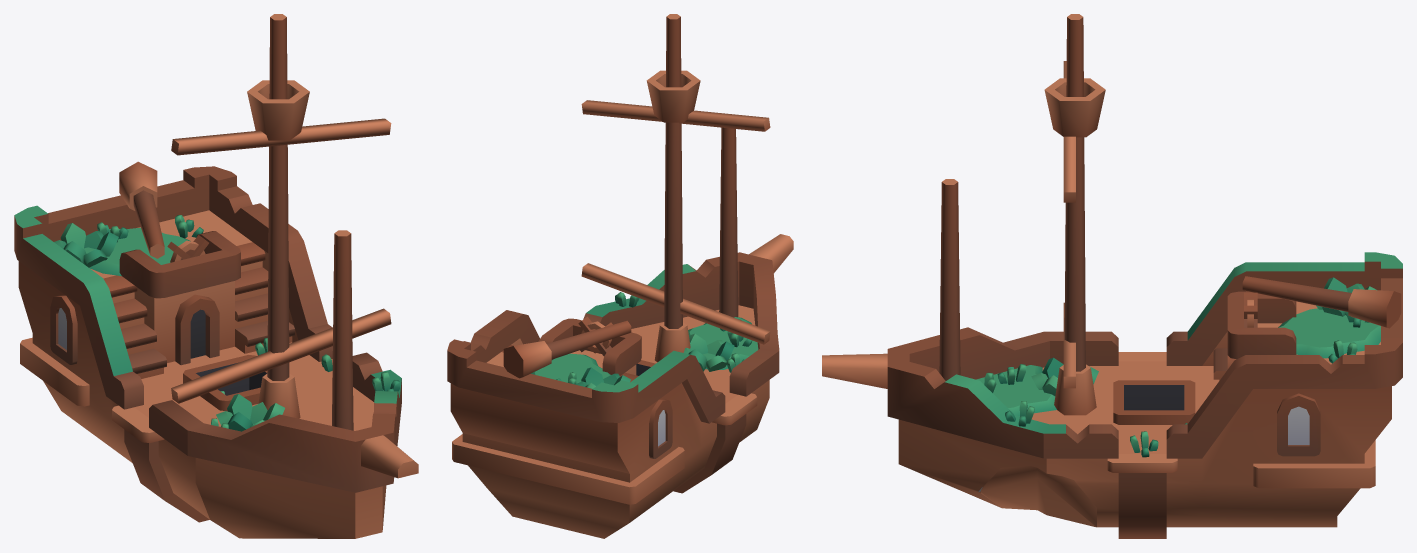
File: ship-wreck.glb
3 views of the same model, side by side, from view 1: azimuth 30°, elevation 25°; view 2: azimuth 150°, elevation 25°; view 3: azimuth 270°, elevation 25° (orthographic). The views are drawn at different scales.
Visible parts, largest first — view 1: ship-wreck; view 2: ship-wreck; view 3: ship-wreck.
Part boxes in pixels (x1,y1,x2,y2): ship-wreck: (14,14,418,538); ship-wreck: (447,14,793,538); ship-wreck: (822,14,1402,538).
Bounding box in the file's own units: 4.8 × 9.96 × 10.6.
